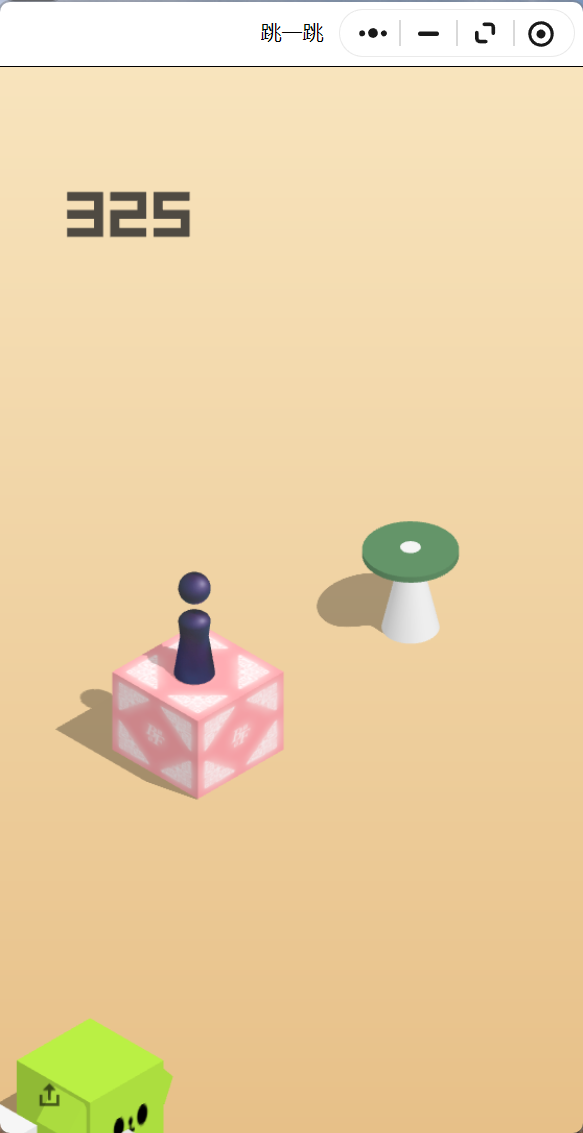piece: (178, 571, 210, 679)
target: (362, 521, 459, 577)
